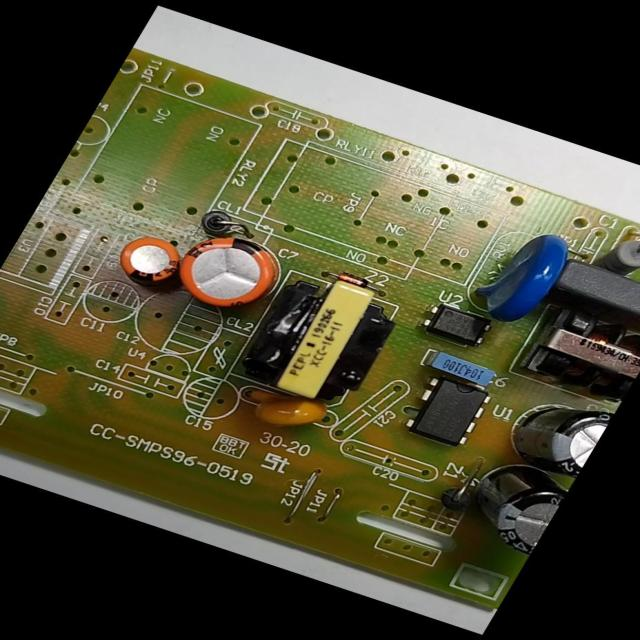Cap1: (154, 216, 300, 328)
Cap2: (104, 223, 199, 297)
Cap3: (494, 385, 616, 484)
Cap4: (434, 447, 576, 560)
MOSFET: (390, 366, 504, 457)
Mov: (455, 216, 588, 338)
Resistor: (587, 226, 639, 286)
Transformer: (222, 261, 418, 418), (502, 292, 639, 411)
